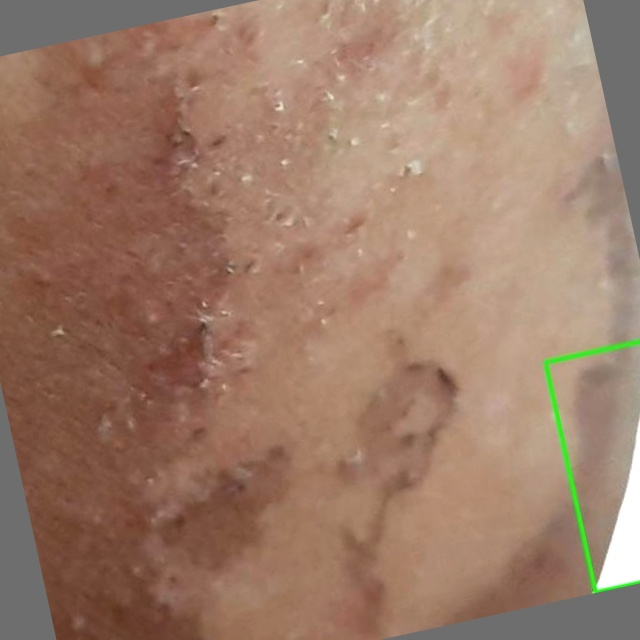Contact Dermatitis: (545, 341, 639, 592)
